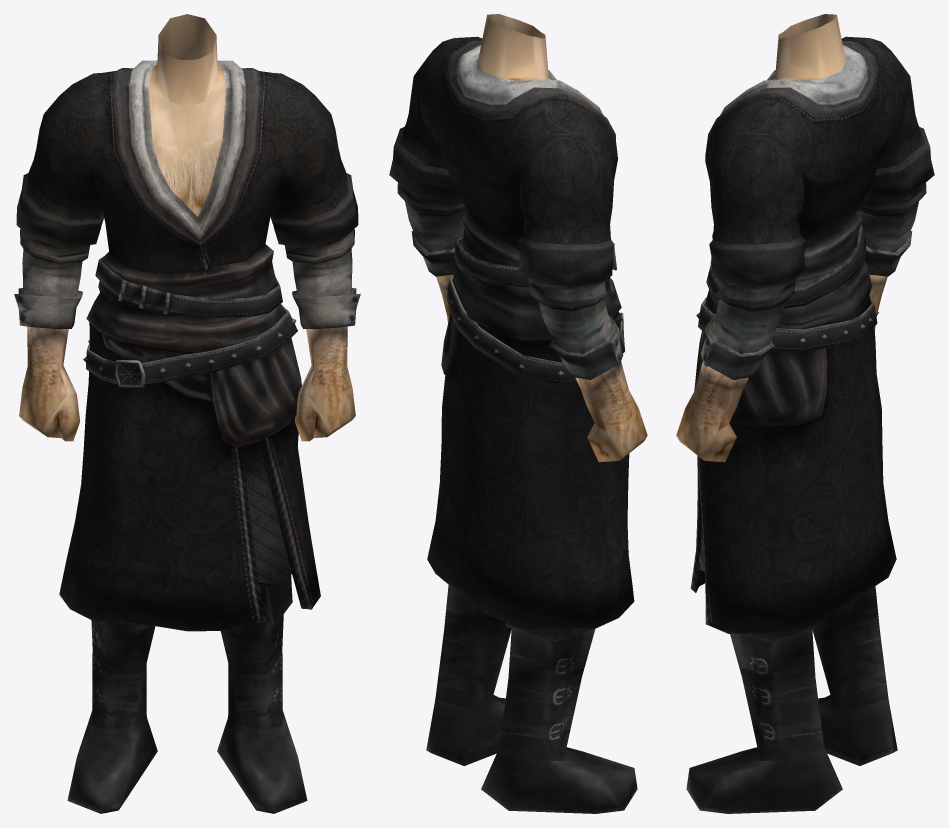
File: KOSA_KONTUSZ_BLACK.glb
3 views of the same model, side by side, from view 1: azimuth 30°, elevation 25°; view 2: azimuth 150°, elevation 25°; view 3: azimuth 270°, elevation 25° (orthographic).
Parts seen in each view (by area): view 1: KOSA_KONTUSZ_BLACK; view 2: KOSA_KONTUSZ_BLACK; view 3: KOSA_KONTUSZ_BLACK.
Part boxes in pixels (box(x1,y1,x2,y2)): KOSA_KONTUSZ_BLACK: box(14, 14, 360, 813); KOSA_KONTUSZ_BLACK: box(389, 14, 647, 813); KOSA_KONTUSZ_BLACK: box(676, 14, 934, 813).
Bounding box in the file's own units: 0.6664 × 1.69 × 0.5199.
Materials: 2 (2 with a texture image).
